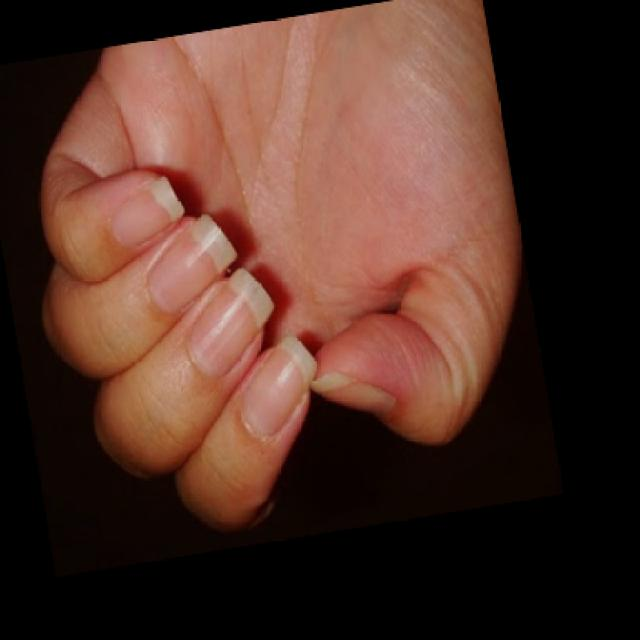Nail: (190, 268, 274, 376), (150, 215, 236, 311), (244, 337, 316, 434), (113, 178, 184, 244), (322, 372, 395, 413)
